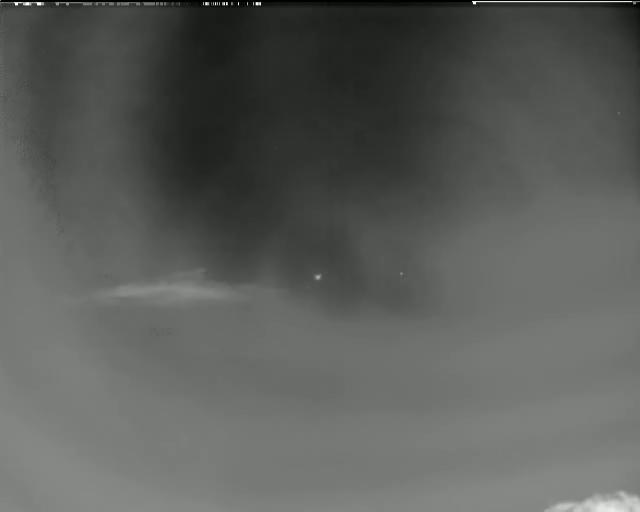uav: (313, 272, 323, 284)
